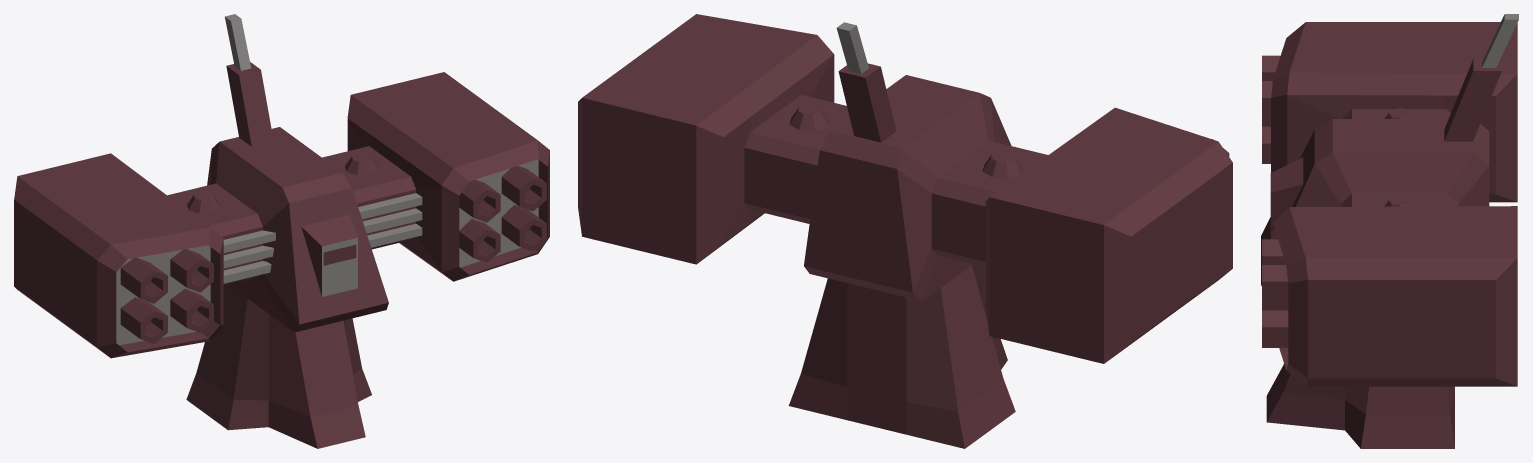
File: scifi-turret-head-missile-big.fbx
The picture shows the model from 3 angles, left to right: view 1: azimuth 30°, elevation 25°; view 2: azimuth 150°, elevation 25°; view 3: azimuth 270°, elevation 25°; orthographic projection. The views are drawn at different scales.
Visible parts, largest first — view 1: scifi-turret-head-missile-big; view 2: scifi-turret-head-missile-big; view 3: scifi-turret-head-missile-big.
Boxes of the visible parts, box(x1,y1,x2,y2) form: scifi-turret-head-missile-big: box(14, 14, 549, 448); scifi-turret-head-missile-big: box(578, 14, 1232, 448); scifi-turret-head-missile-big: box(1261, 14, 1518, 448).
Bounding box in the file's own units: 3.77 × 2.75 × 1.64.
